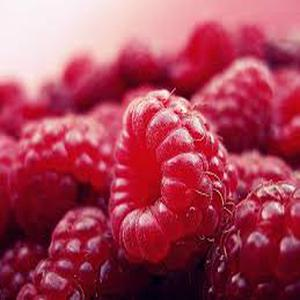raspb: (1, 60, 300, 300)
